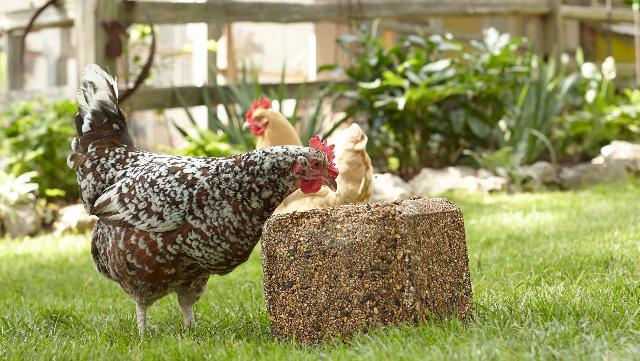Chicken: (72, 63, 340, 336), (243, 98, 374, 218)
